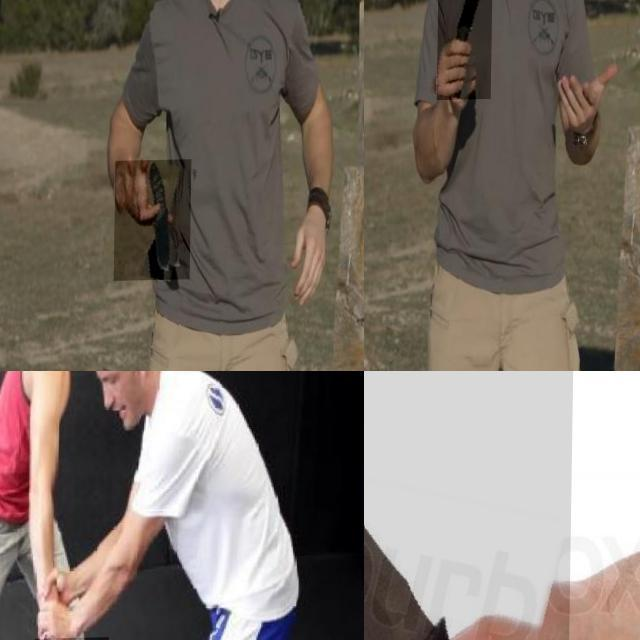-: (364, 371, 583, 640), (116, 160, 192, 282), (437, 0, 493, 101)
